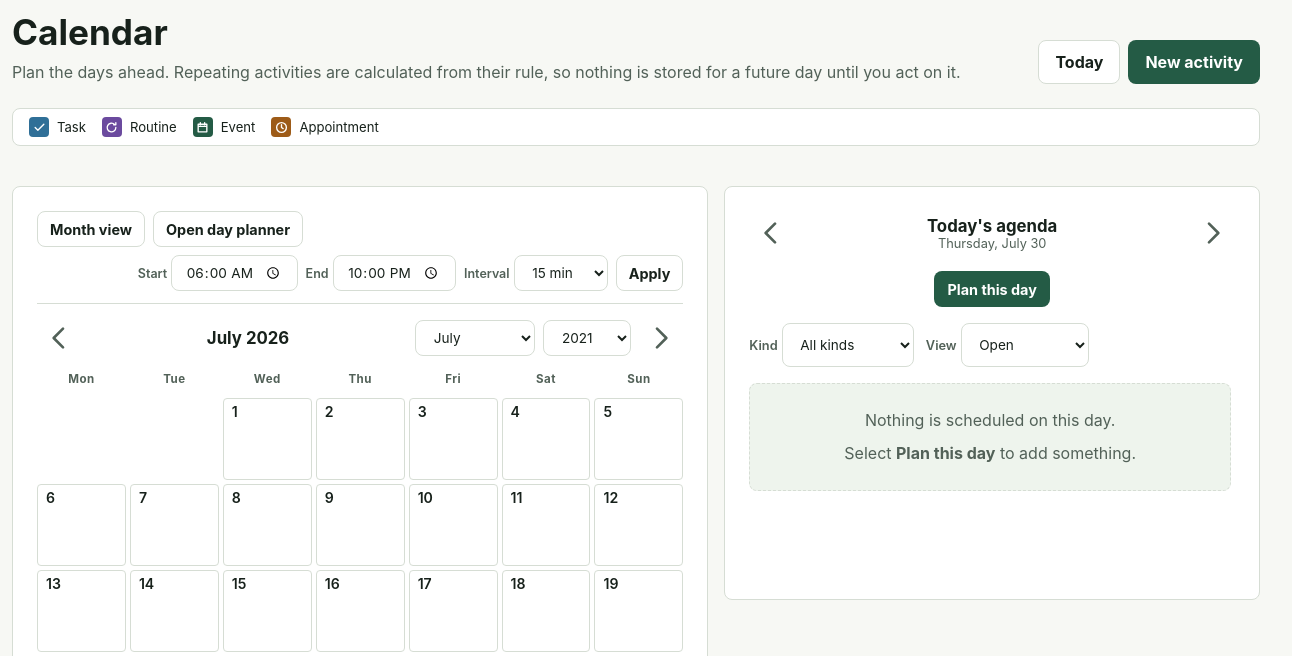
CalendarComponent › month navigation › jumps straight to a month chosen from the picker
Select "November" in the dropdown with id "toolbar-month" at (475, 338), box [415,320,535,356]
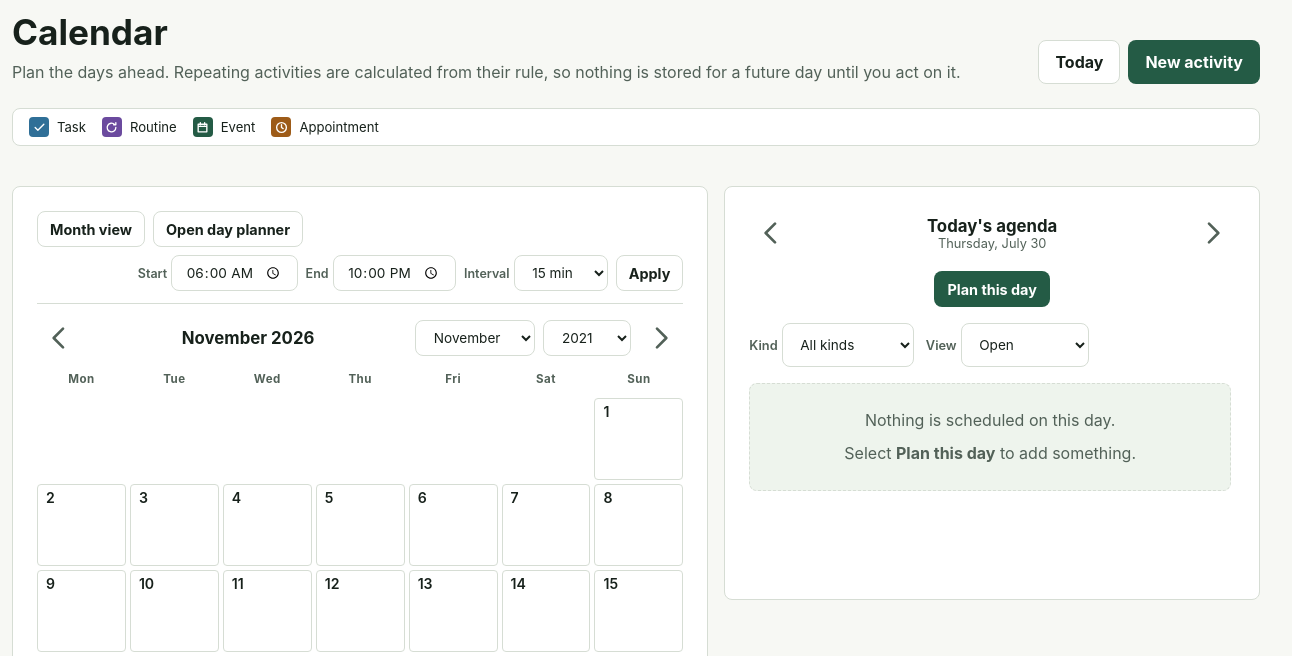
Expected: the heading with id "month-title" reads "November 2026", [182,328,314,348]
